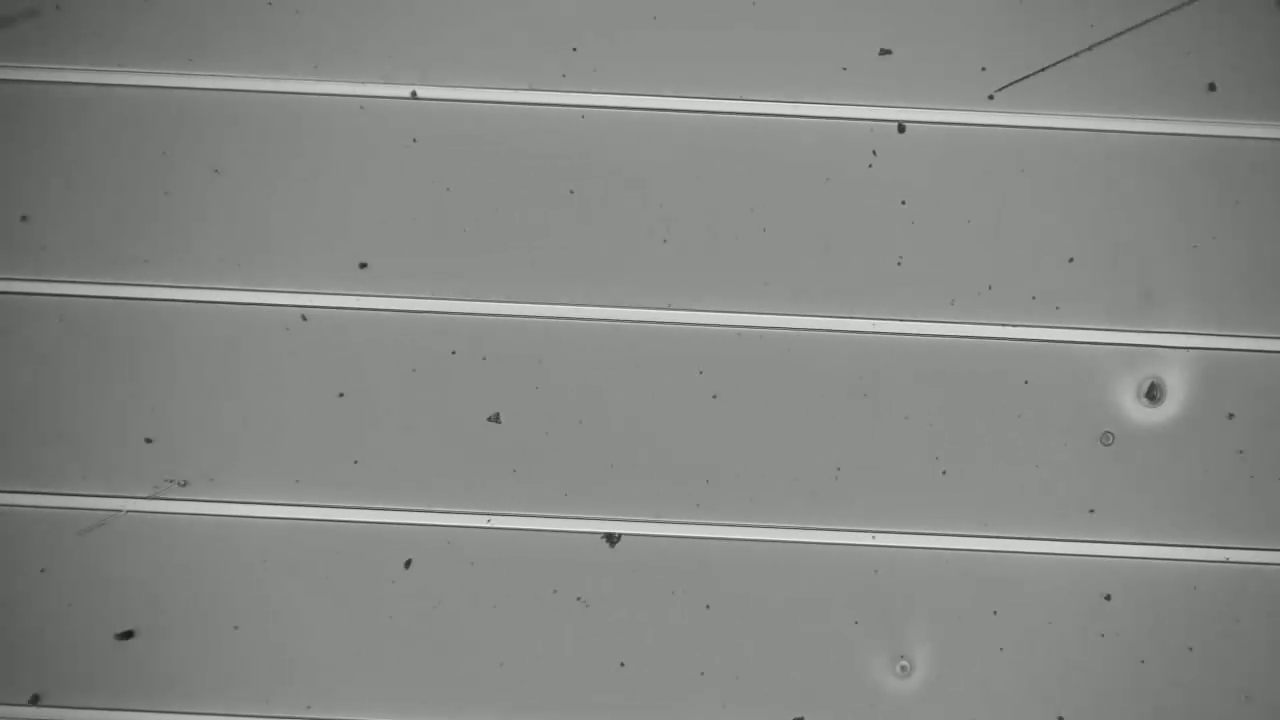scratch: (989, 1, 1209, 99)
